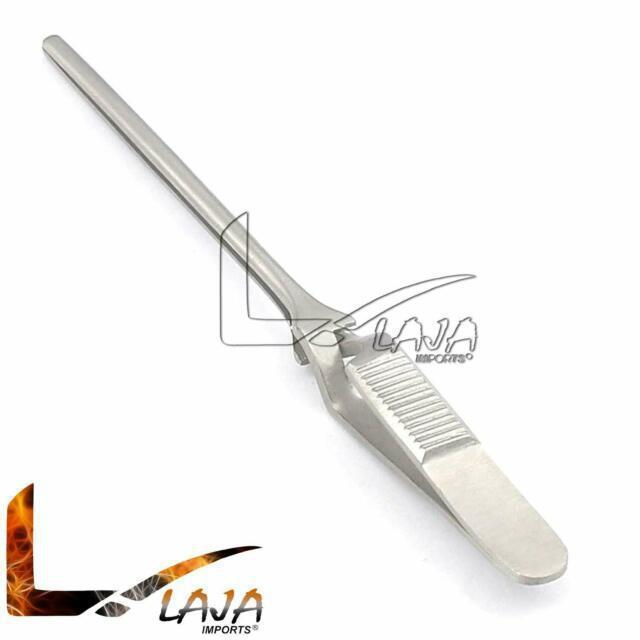Bulldog: (39, 30, 574, 589)
